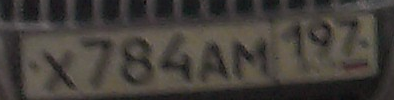character: (158, 27, 196, 90), (80, 31, 115, 94), (232, 28, 269, 86), (120, 31, 156, 90), (305, 14, 339, 73), (39, 49, 79, 96), (199, 37, 230, 87), (278, 21, 307, 72), (338, 13, 365, 62)
